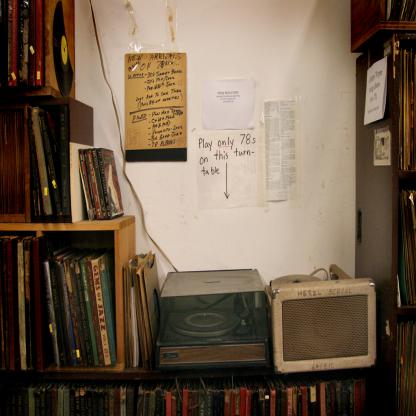book: (0, 372, 367, 416), (0, 232, 117, 370), (0, 100, 71, 223), (2, 0, 76, 92), (122, 256, 162, 366), (76, 146, 125, 220), (396, 48, 416, 172), (394, 319, 416, 416), (398, 188, 416, 304), (92, 244, 108, 366), (384, 0, 415, 22)
